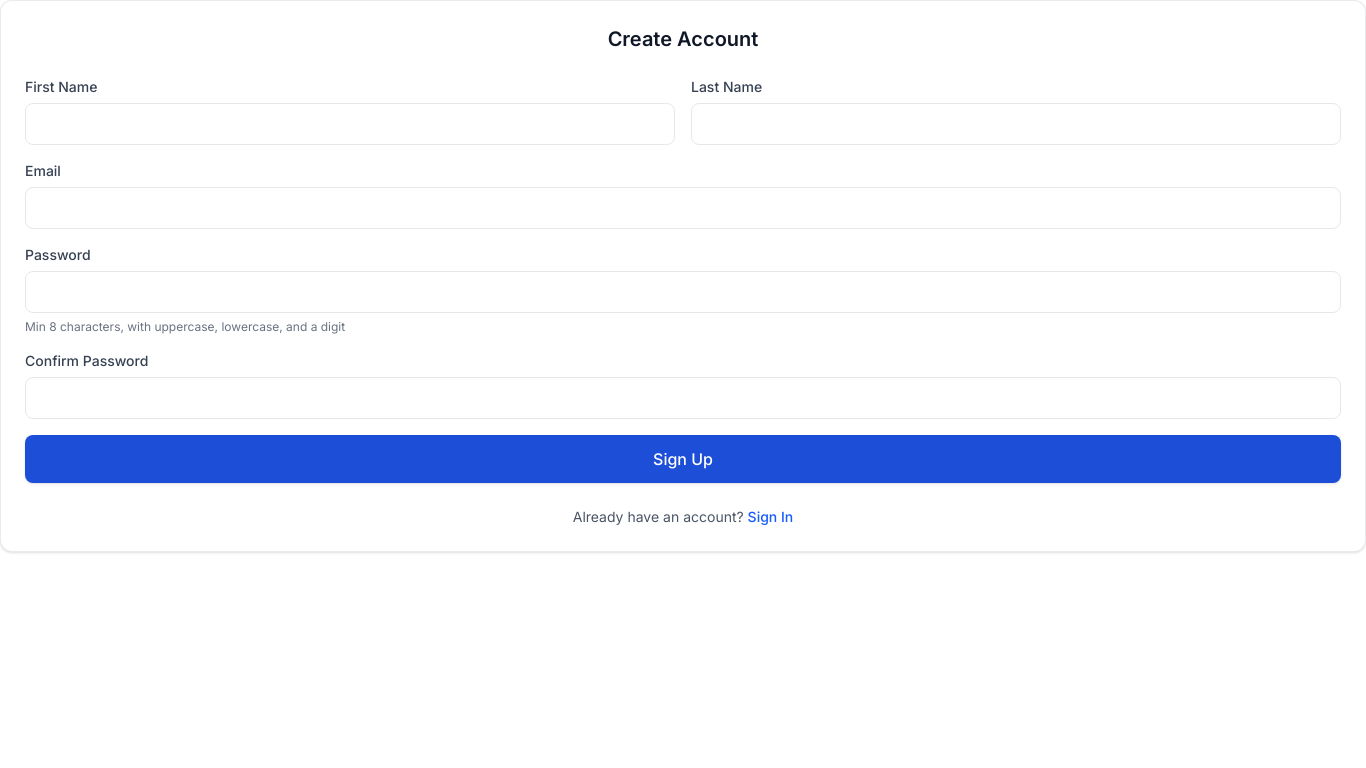
RegisterPage › shows generic error on signUp failure
The width and height of the screenshot is (1366, 768).
In the field labelled "First Name": (350, 124) [25,103,675,145], type "John"
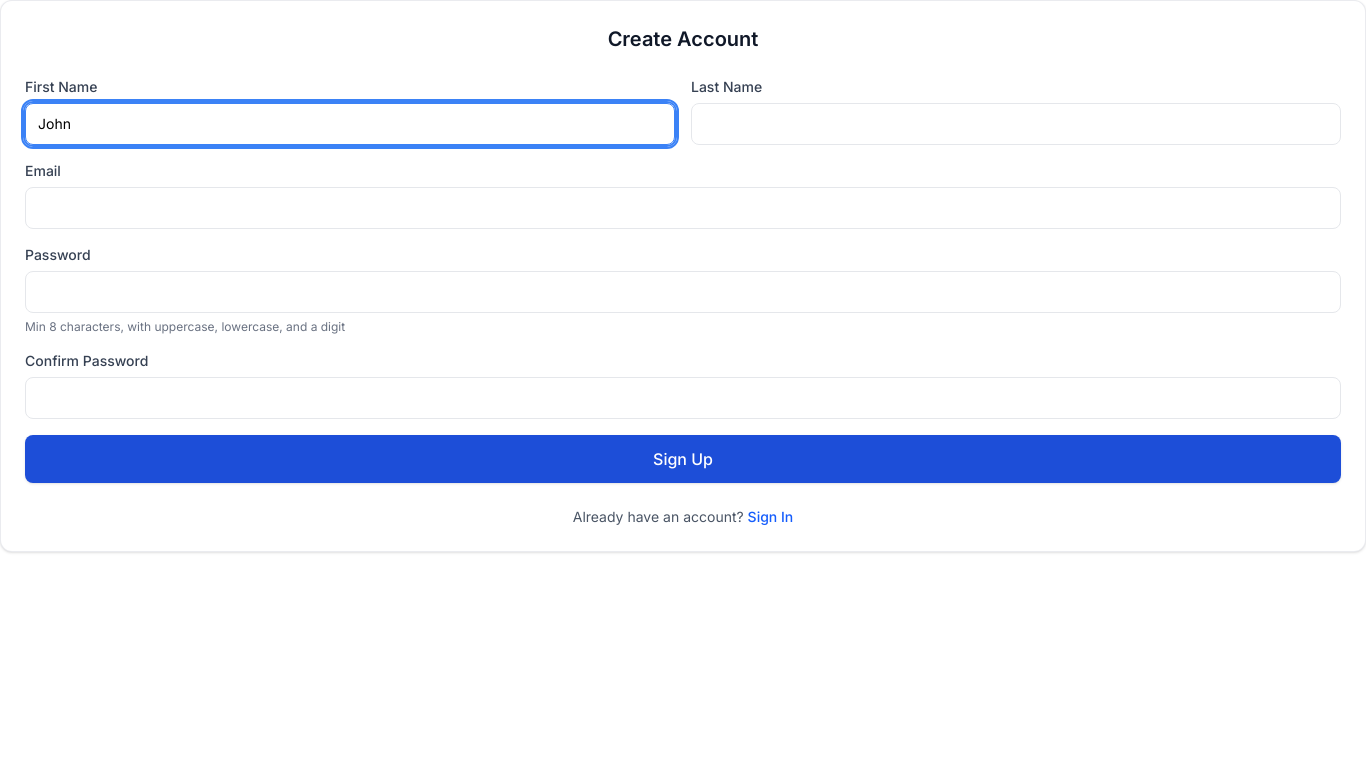
In the field labelled "Last Name": (1016, 124) [691,103,1341,145], type "Doe"
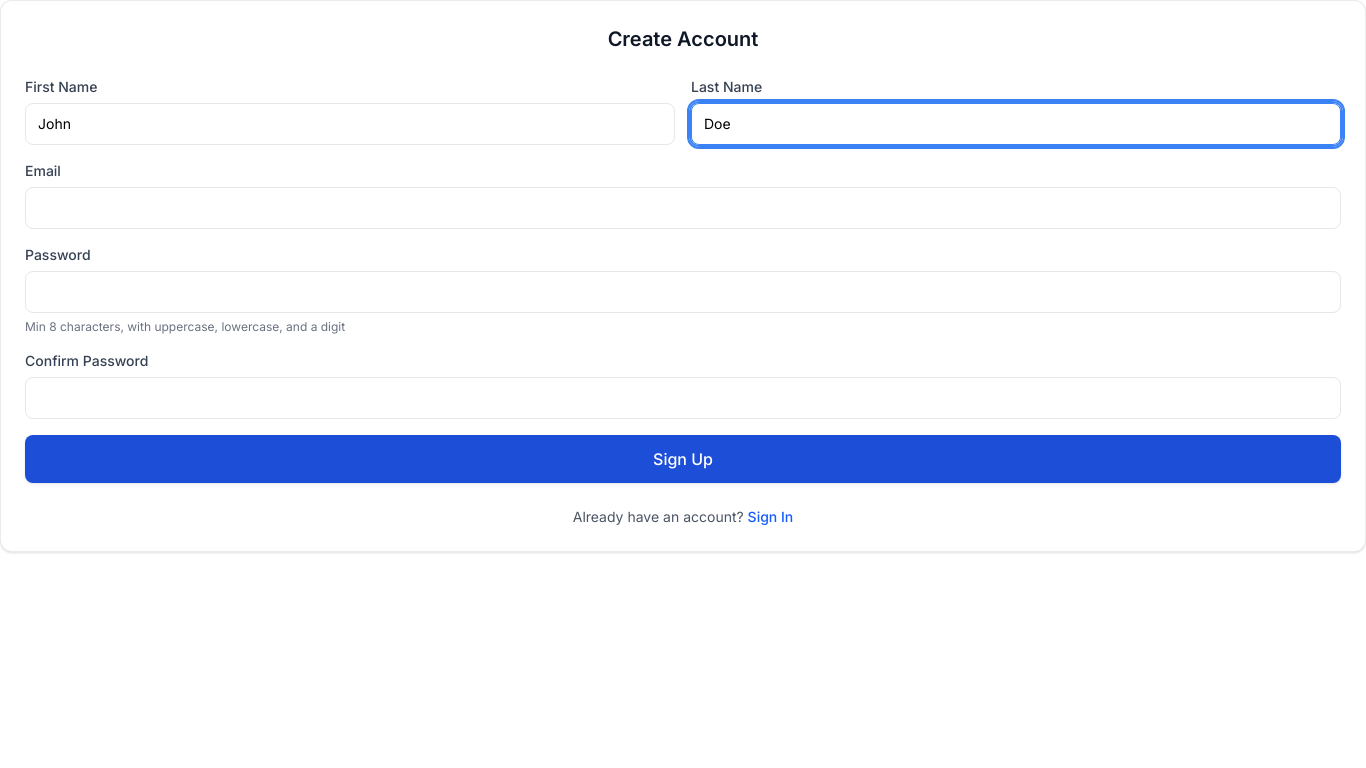
In the field labelled "Email": (683, 208) [25,187,1341,229], type "john@example.com"
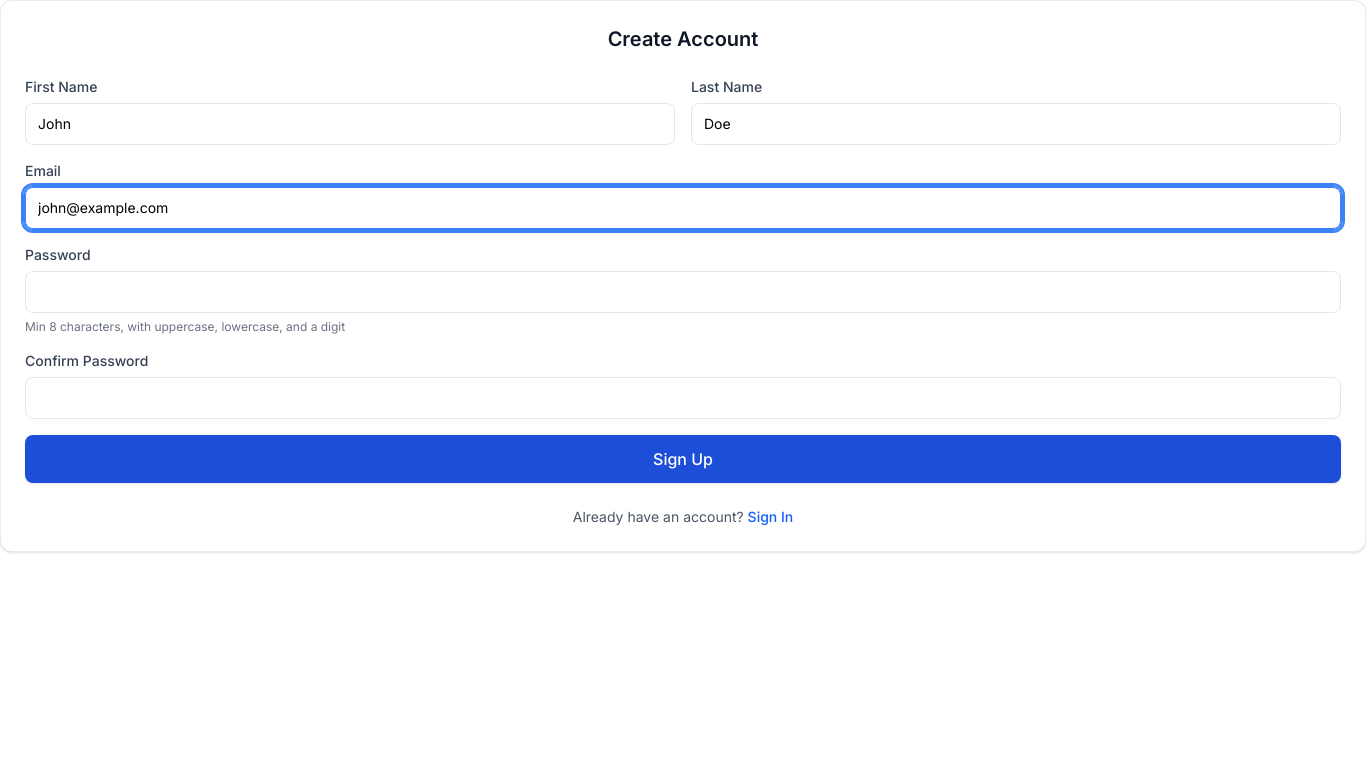
In the password field labelled "Password": (683, 292) [25,271,1341,313], type "Password1"
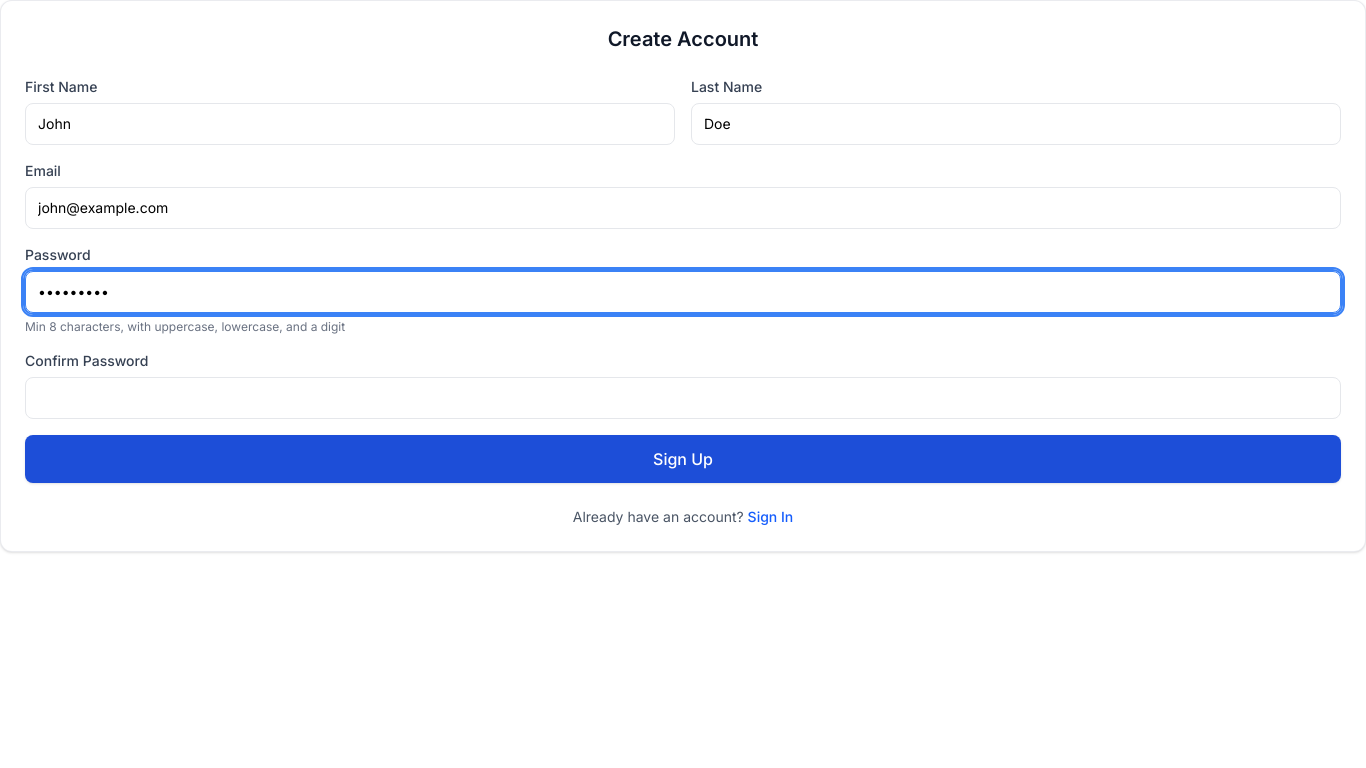
In the password field labelled "Confirm Password": (683, 398) [25,377,1341,419], type "Password1"
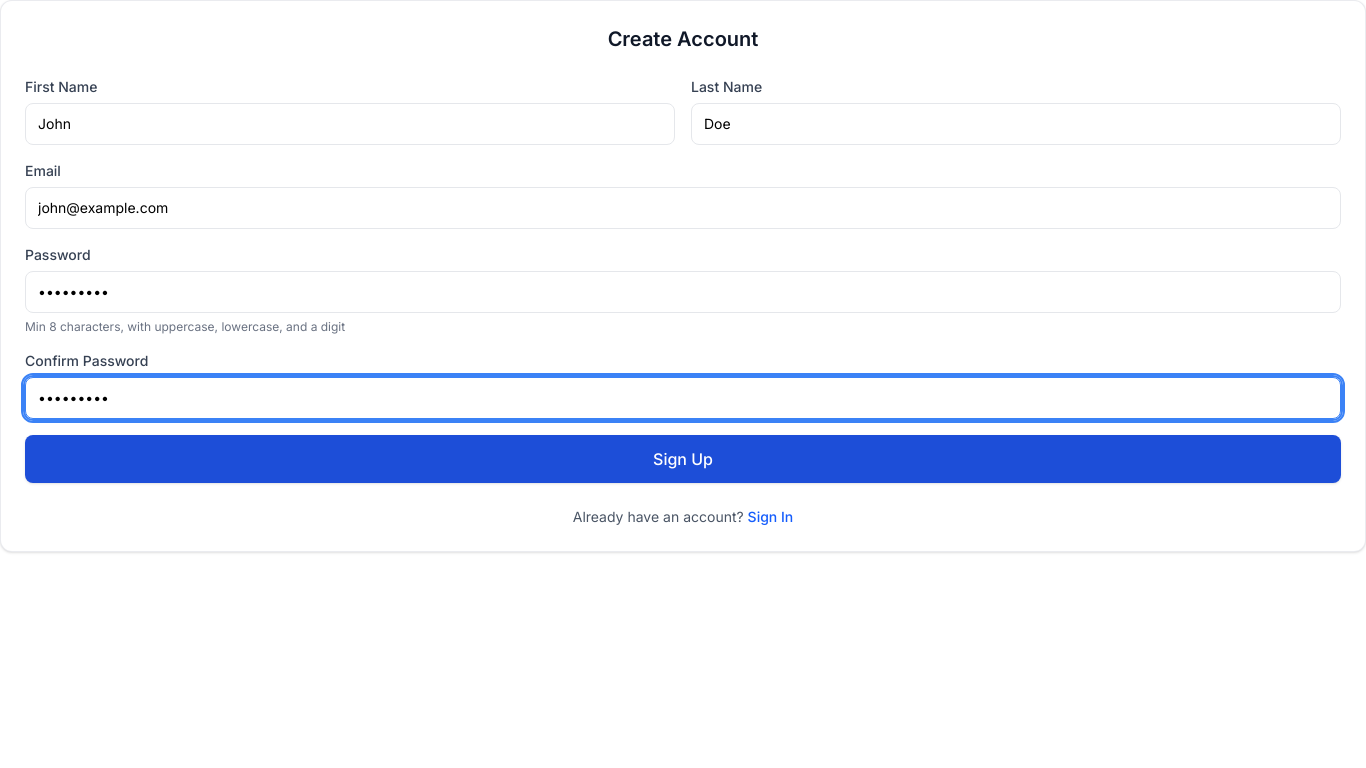
Click the button "Sign Up": (683, 459) [25,435,1341,483]
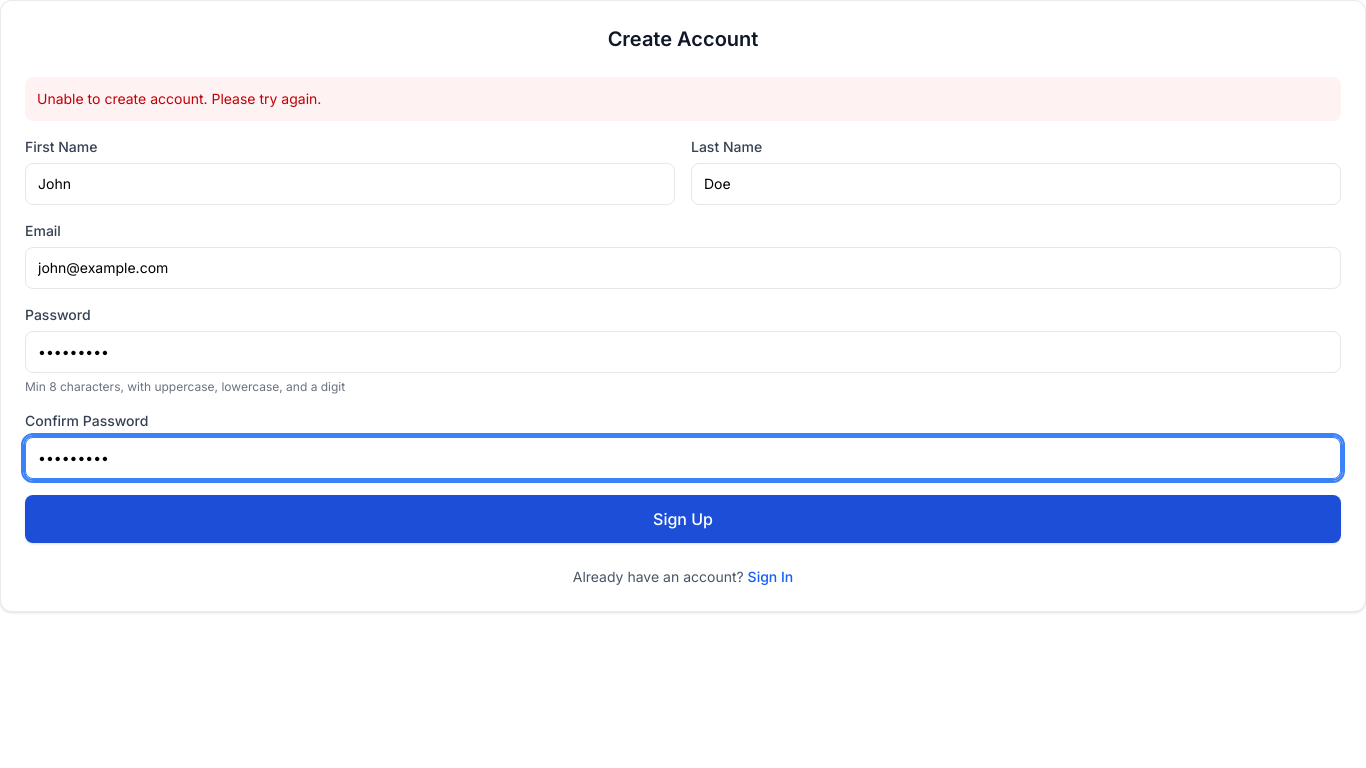
Check: the text "Unable to create account. Please try again." is shown, box [25,77,1341,121]
